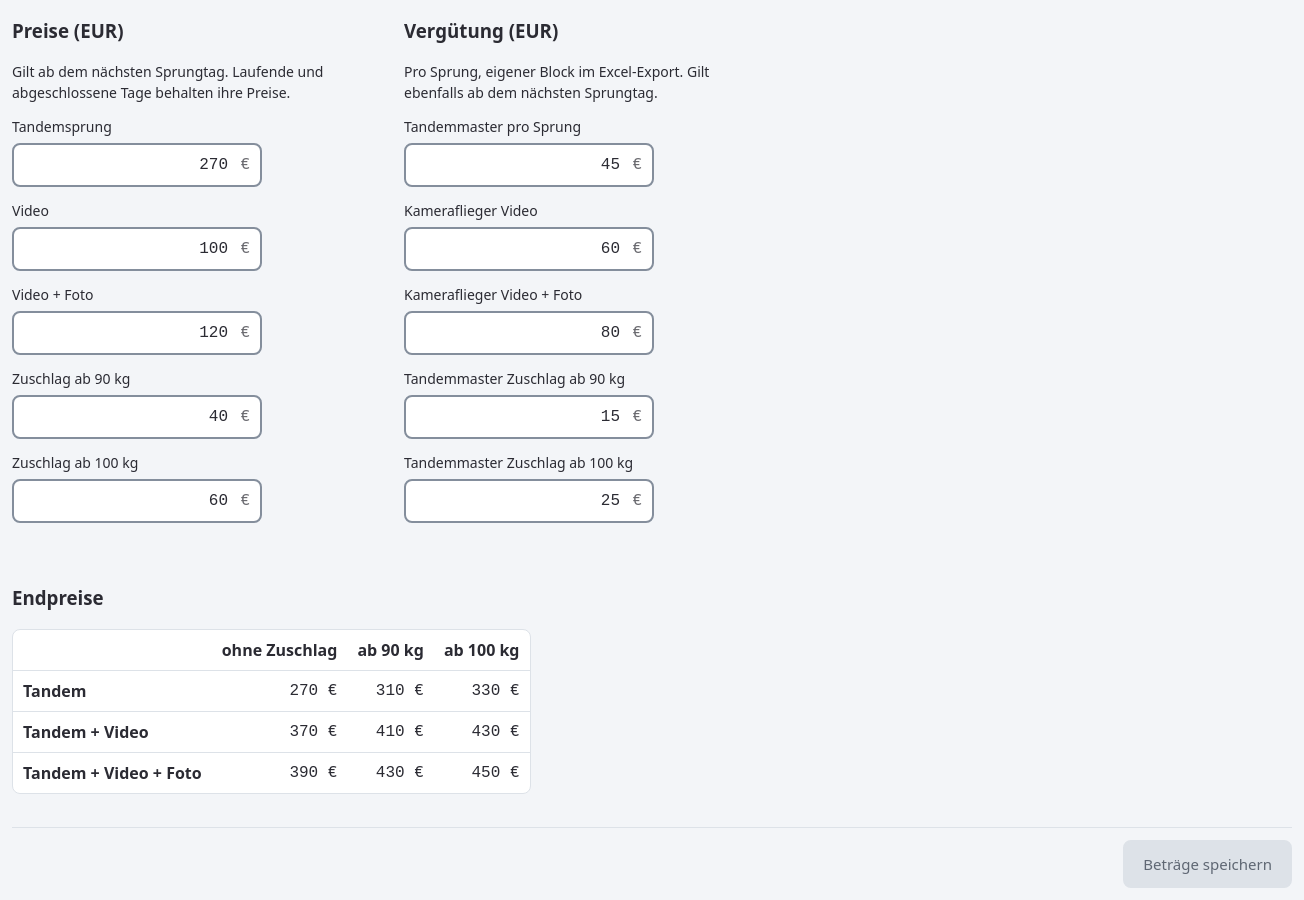
Beträge › marks every invalid amount at its field and puts the cursor on the first
The image size is (1304, 900).
Expected: the heading "Preise (EUR)" is shown, 12,18 -> 124,43
Clear the field labelled "Video" at (137, 249), box 12,227 -> 262,271
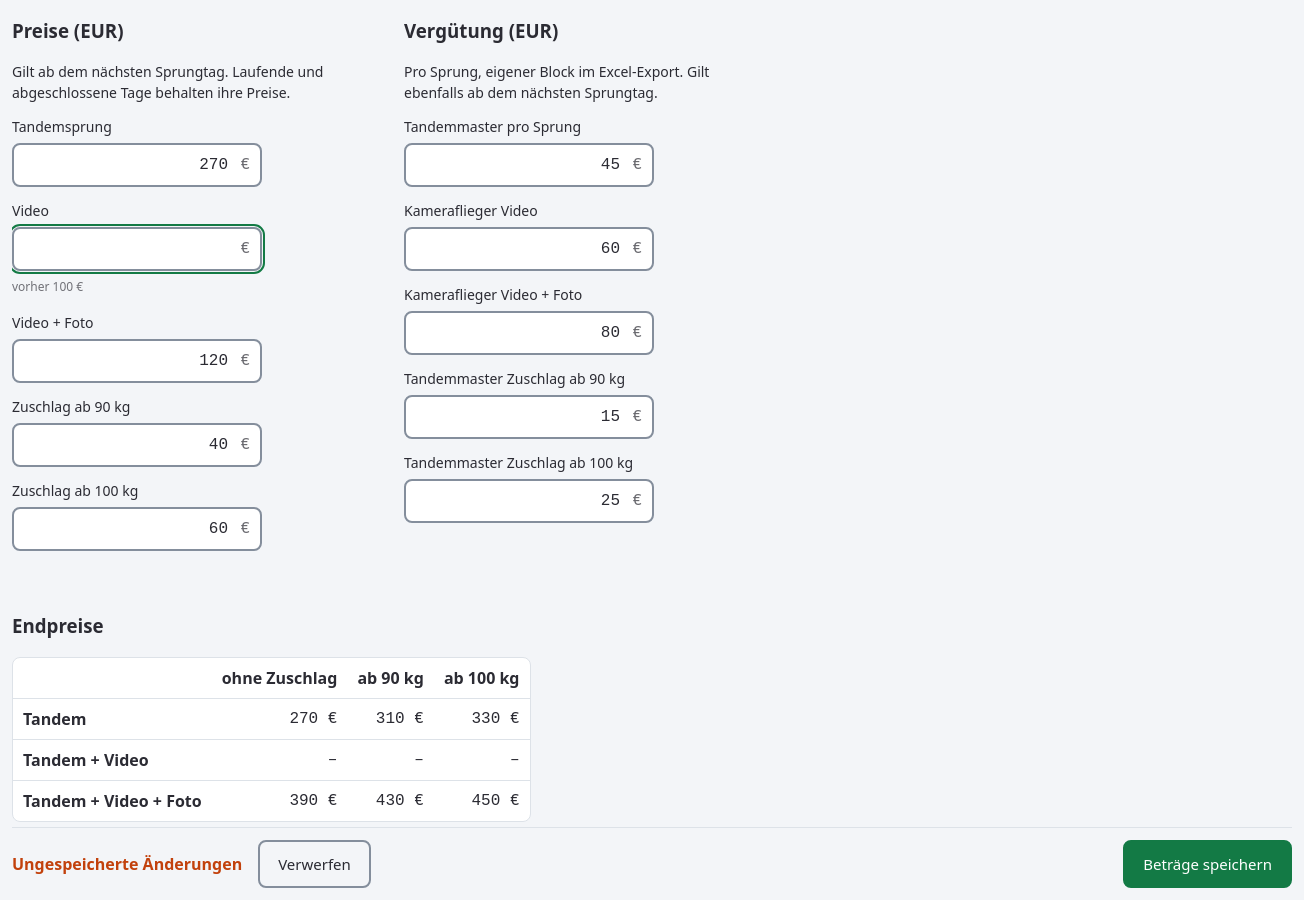
Replace the text in the field labelled "Kameraflieger Video" with "-5" at (529, 249), box 404,227 -> 654,271
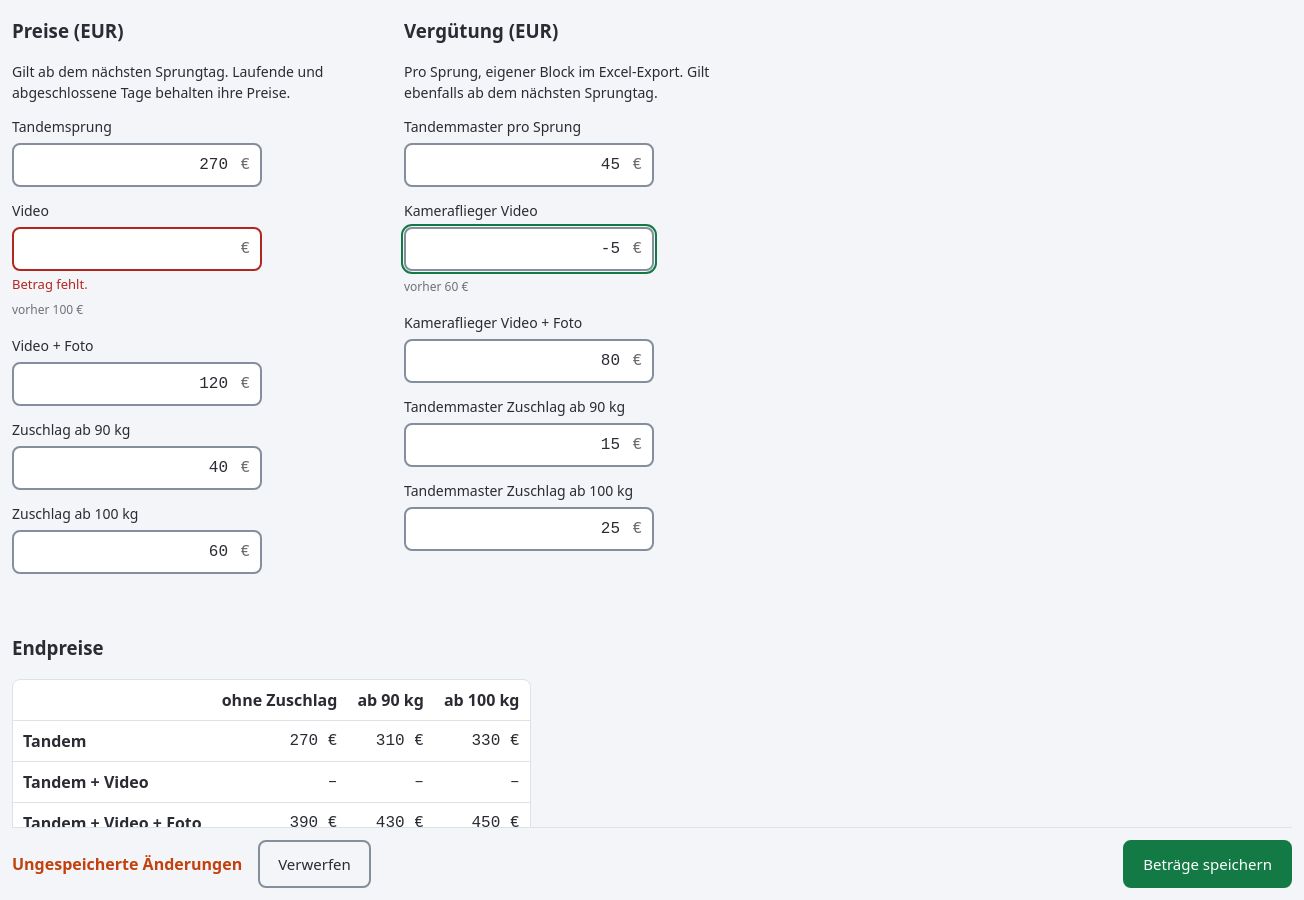
Click the button "Beträge speichern" at (1208, 864), box 1123,840 -> 1292,888
(page scrolled)
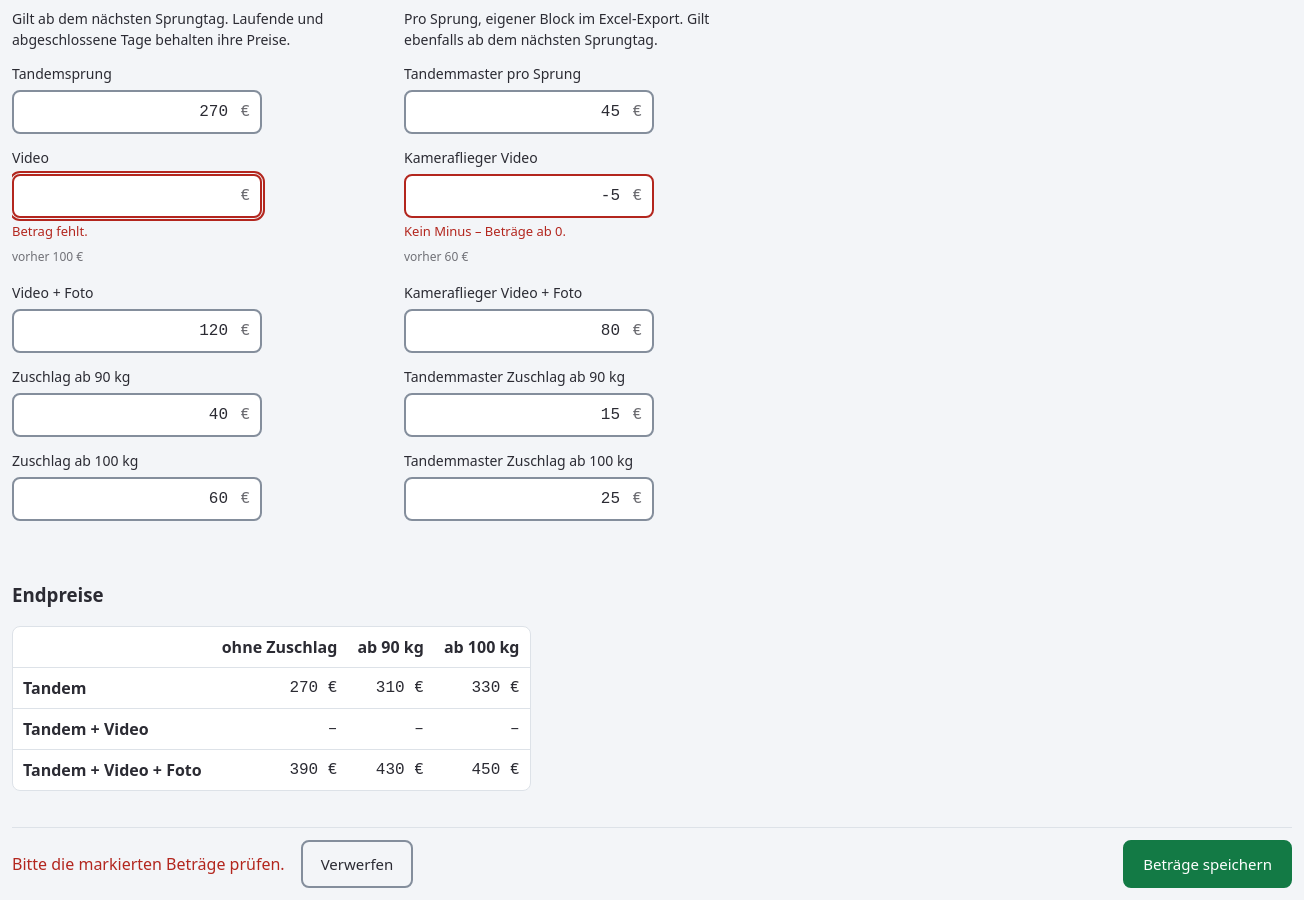
Expected: the message reads "Bitte die markierten Beträge prüfen.", 12,853 -> 285,875
